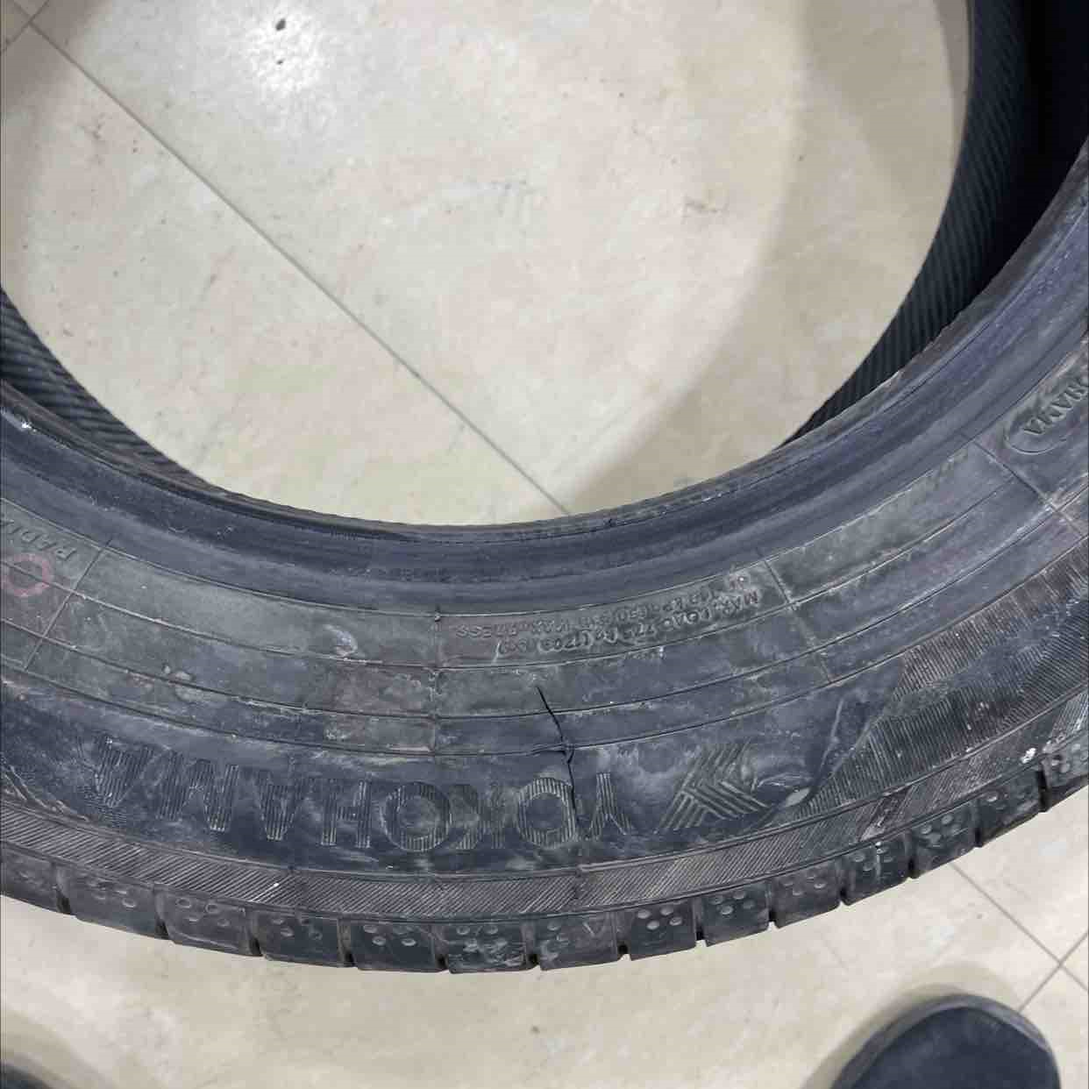cut: (530, 679, 584, 841)
